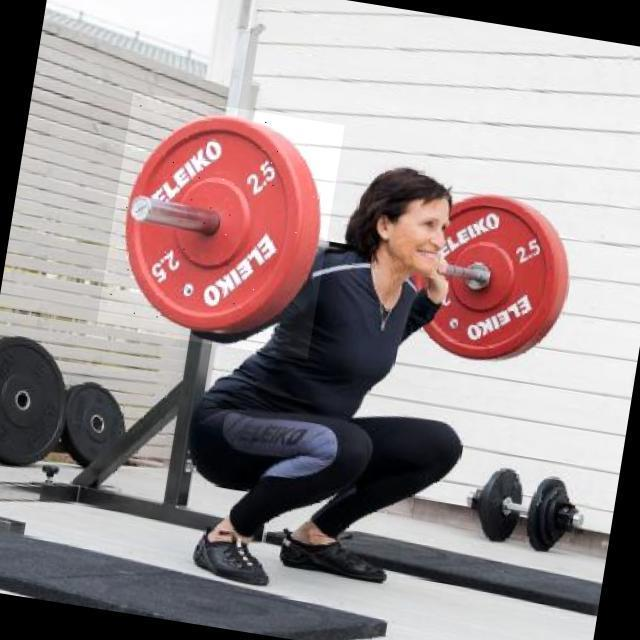barbell: (98, 93, 346, 361)
